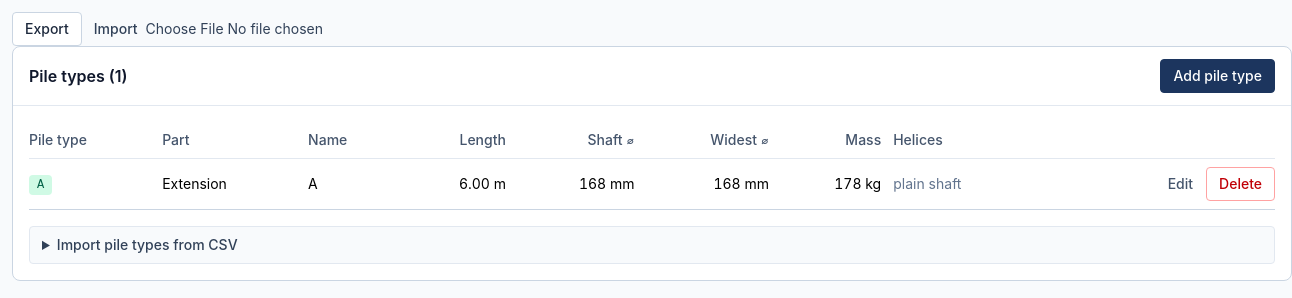
Test: export › writes the whole session to a dated file
Step 1. Click the button "Export" → (47, 29), box [12,12,82,46]
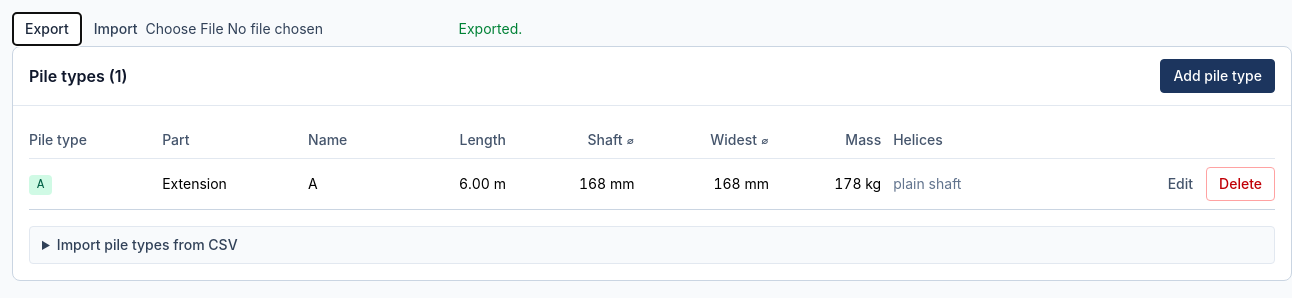
Check: the message reads "Exported.", box [459,20,522,37]
